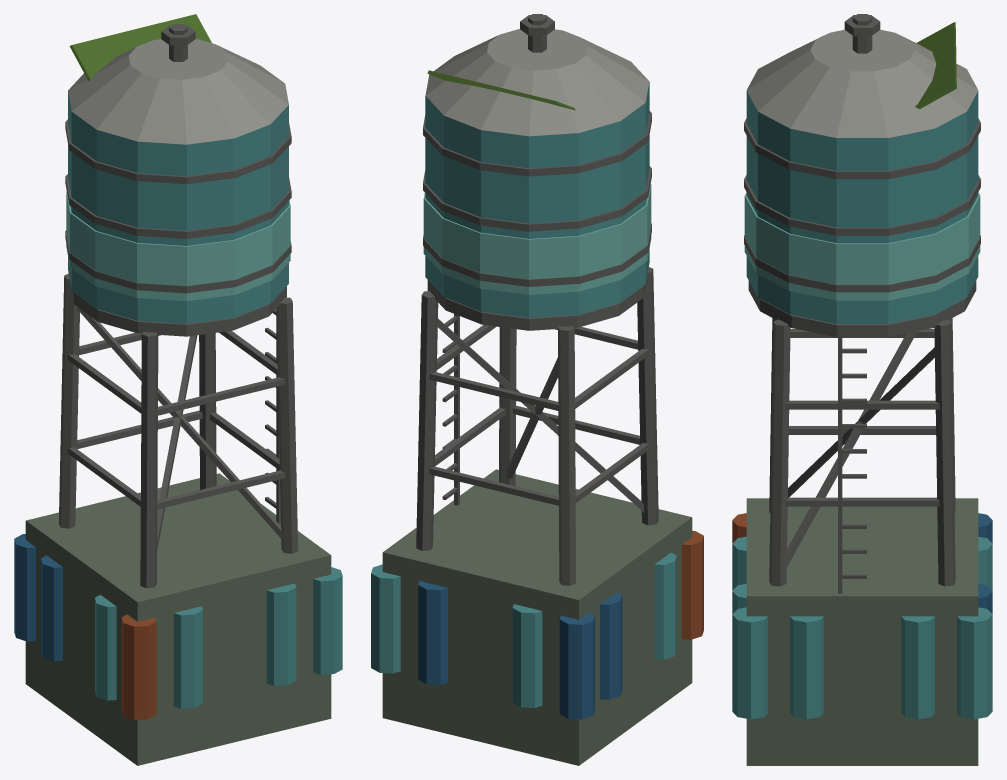
File: fort_cistern_tower.glb
3 views of the same model, side by side, from view 1: azimuth 30°, elevation 25°; view 2: azimuth 150°, elevation 25°; view 3: azimuth 270°, elevation 25° (orthographic). The views are drawn at different scales.
Visible parts, largest first — view 1: fort_cistern_tower; view 2: fort_cistern_tower; view 3: fort_cistern_tower.
Part boxes in pixels (x1,y1,x2,y2): fort_cistern_tower: (14, 14, 342, 765); fort_cistern_tower: (371, 14, 703, 765); fort_cistern_tower: (732, 14, 992, 765).
Size of the model in its own units: 5.84 by 17.3 by 5.84.
